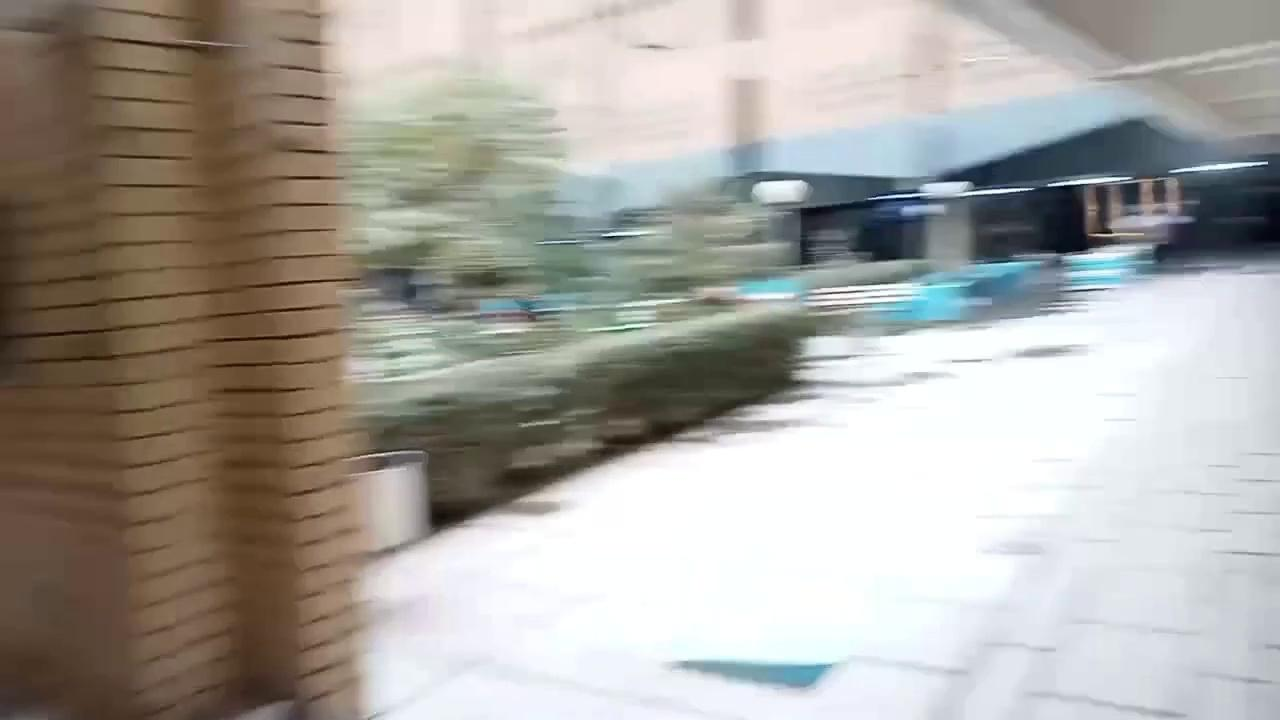tree: (339, 56, 816, 529), (350, 300, 816, 528), (344, 60, 574, 314)
